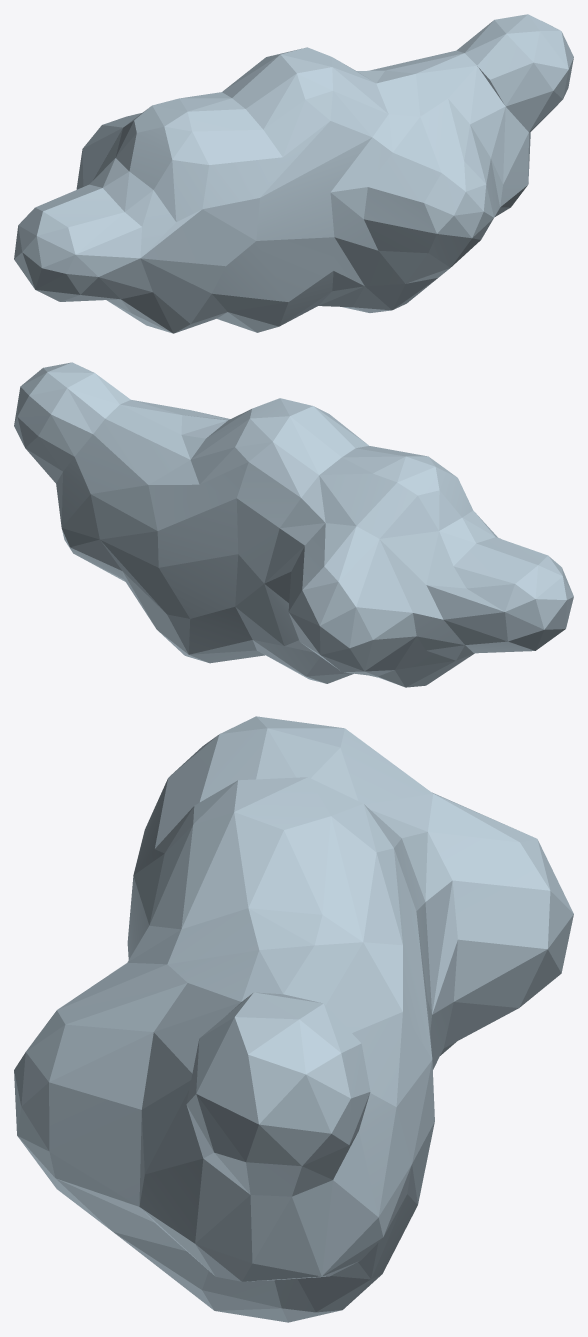
Rendered from medium_cloud_1.fbx.
3 views of the same model, one above another, from view 1: azimuth 30°, elevation 25°; view 2: azimuth 150°, elevation 25°; view 3: azimuth 270°, elevation 25° (orthographic). The views are drawn at different scales.
Parts seen in each view (by area): view 1: cloud_51; view 2: cloud_51; view 3: cloud_51.
Part boxes in pixels (<box>): cloud_51: <box>14,14,573,333</box>; cloud_51: <box>14,362,573,687</box>; cloud_51: <box>14,716,573,1322</box>.
Size of the model in its own units: 578 by 266 by 291.
